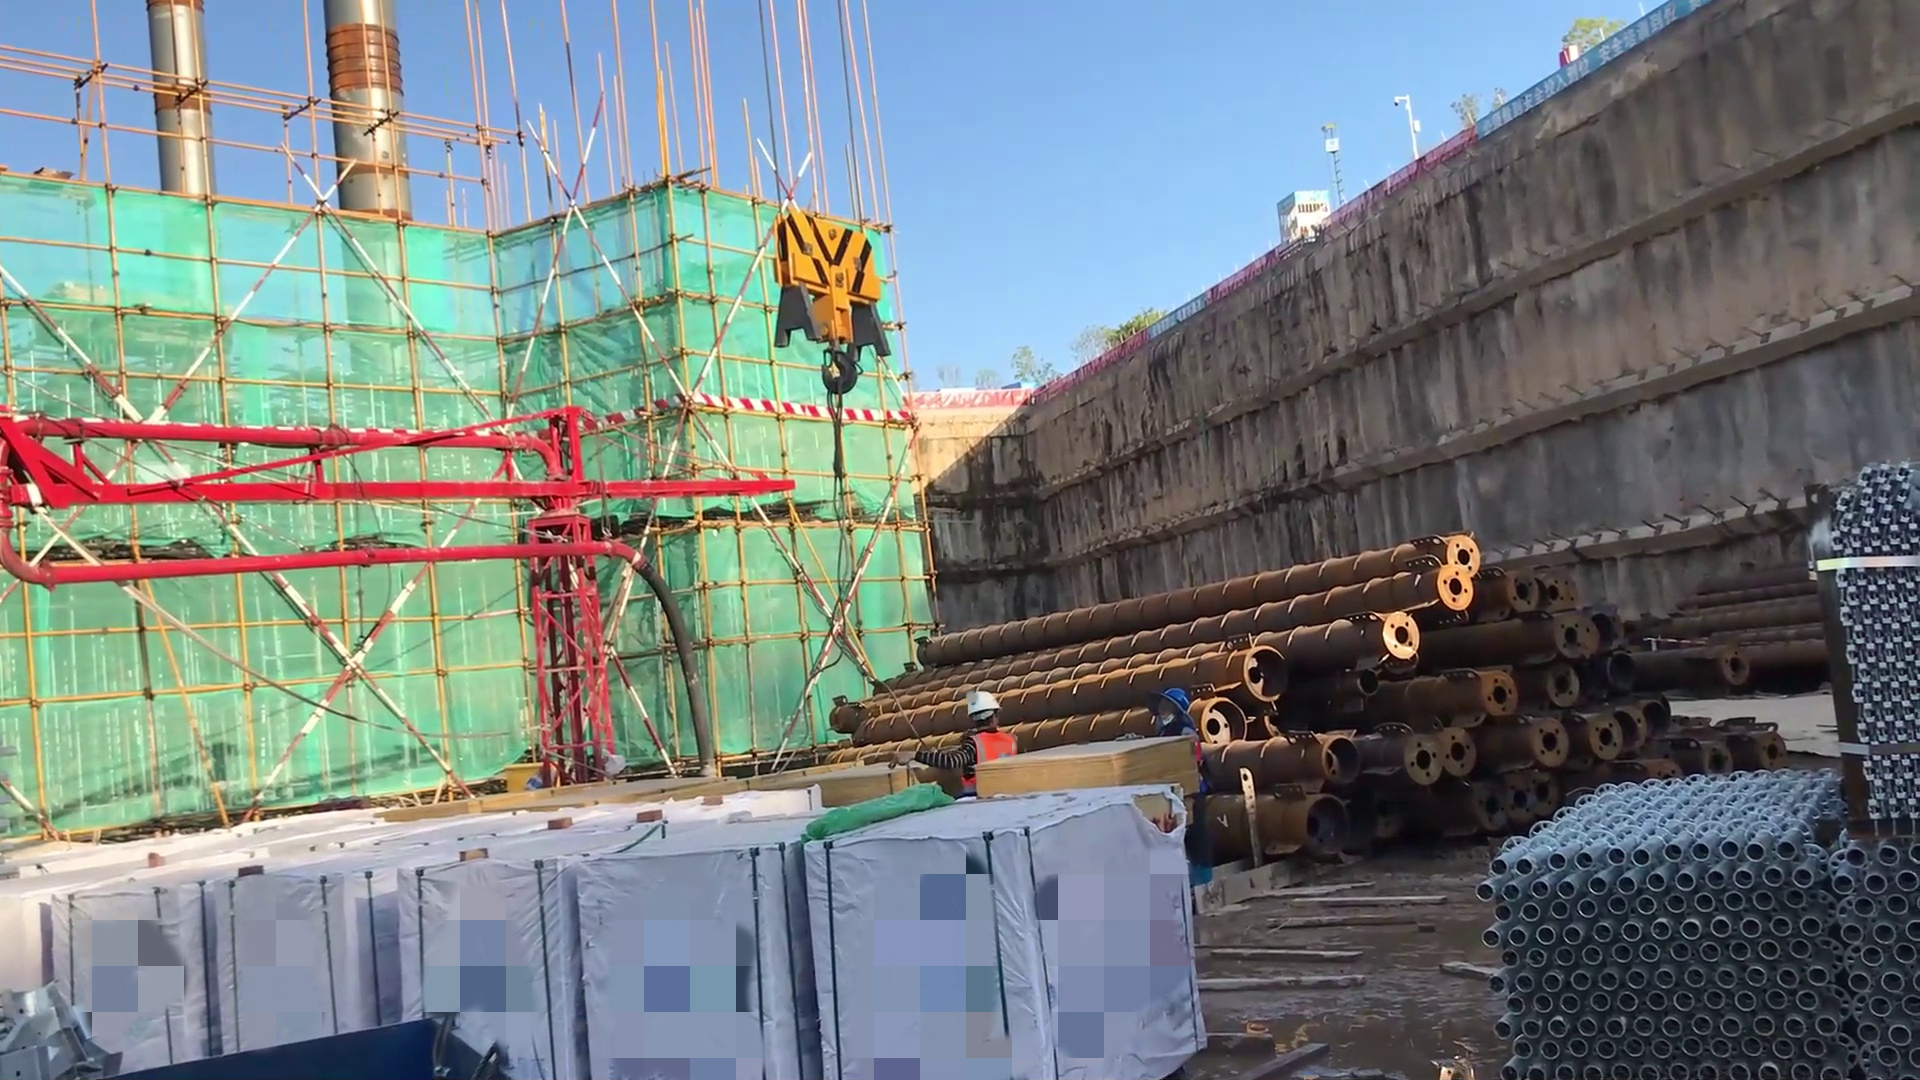board: (972, 736, 1190, 811)
ebox: (501, 753, 565, 805)
helmet: (964, 685, 1002, 741), (1152, 689, 1195, 728)
hook: (768, 196, 893, 435)
hopper: (72, 991, 506, 1080)
person: (897, 685, 1026, 827), (1140, 682, 1214, 911)
scaffold: (1463, 755, 1916, 1080), (1826, 454, 1920, 853)
slogan: (1483, 1, 1691, 132), (1127, 278, 1234, 351)
vest: (951, 734, 1018, 793)
